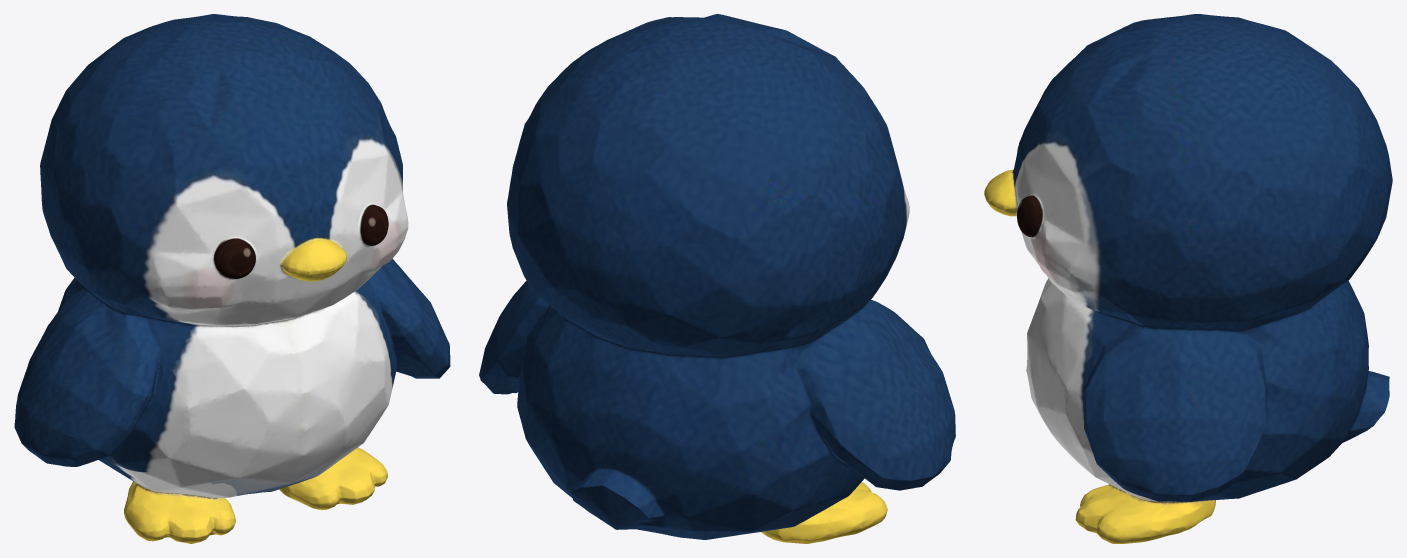
Rendered from penguin.glb.
The picture shows the model from 3 angles, left to right: view 1: azimuth 30°, elevation 25°; view 2: azimuth 150°, elevation 25°; view 3: azimuth 270°, elevation 25°; orthographic projection. The views are drawn at different scales.
Bounding box in the file's own units: 1.8 × 1.9 × 1.54.
Materials: 1 (1 with a texture image).
